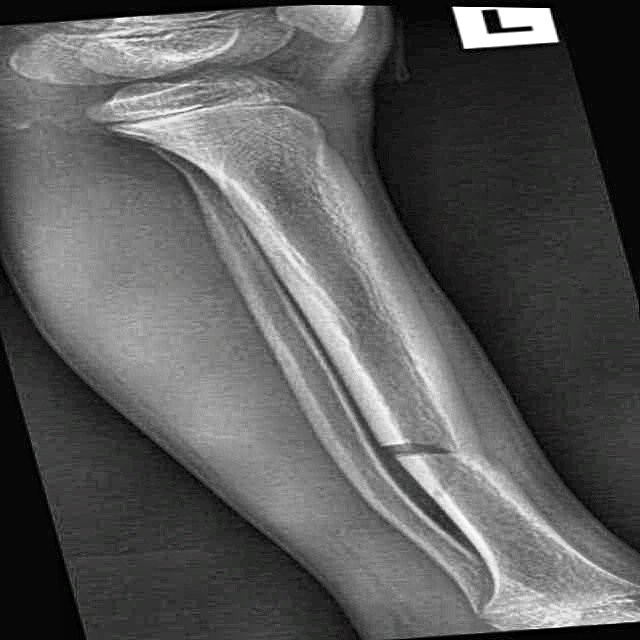Greenstick: (353, 417, 521, 496)
